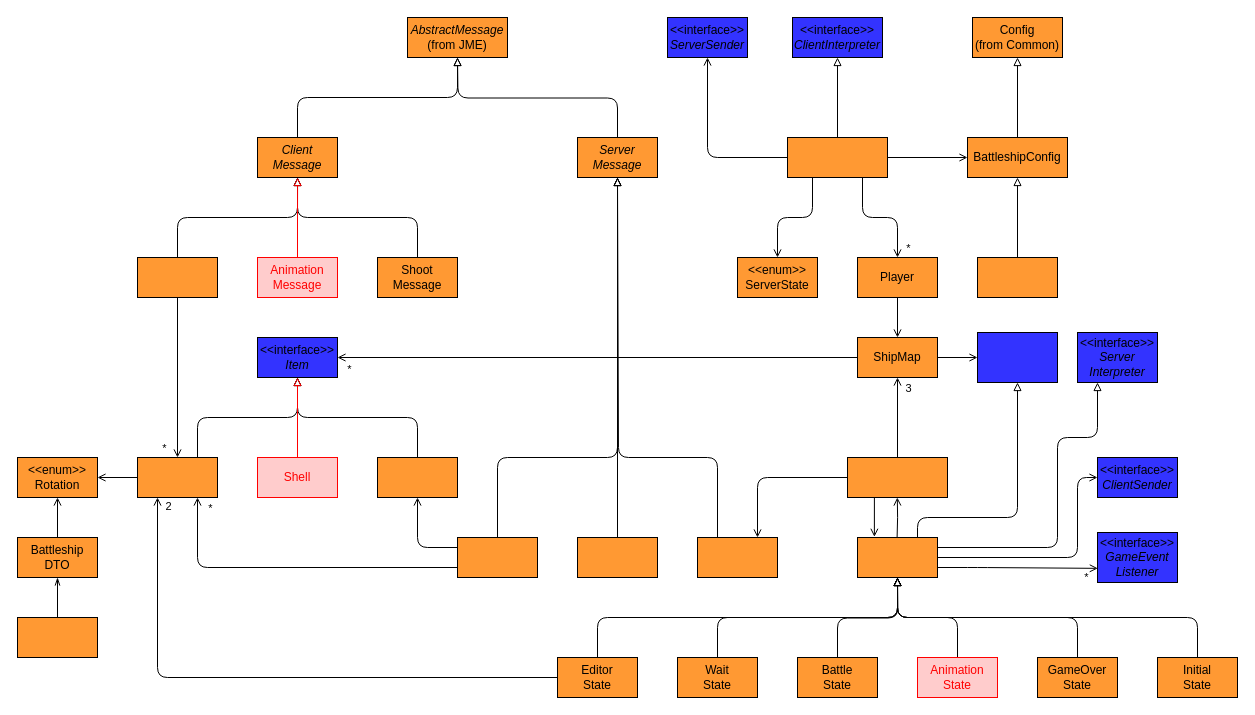
Some shapes in this 1255 by 715 pixel diagram are drawn without their labels. The centre of each missing label's shape, as x and y in pixels:
"<<interface>> GameEvent Broker" goes at (1017,357).
"Battleship" goes at (177,477).
"Battleship ClientConfig" goes at (1017,277).
"ClientGameLogic" goes at (897,477).
"ClientState" goes at (897,557).
"Effect Message" goes at (497,557).
"Game Details" goes at (737,557).
"Map Message" goes at (177,277).
"ServerGameLogic" goes at (837,157).
"ShipMap DTO" goes at (57,637).
"Shot" goes at (417,477).
"StartBattle Message" goes at (617,557).
